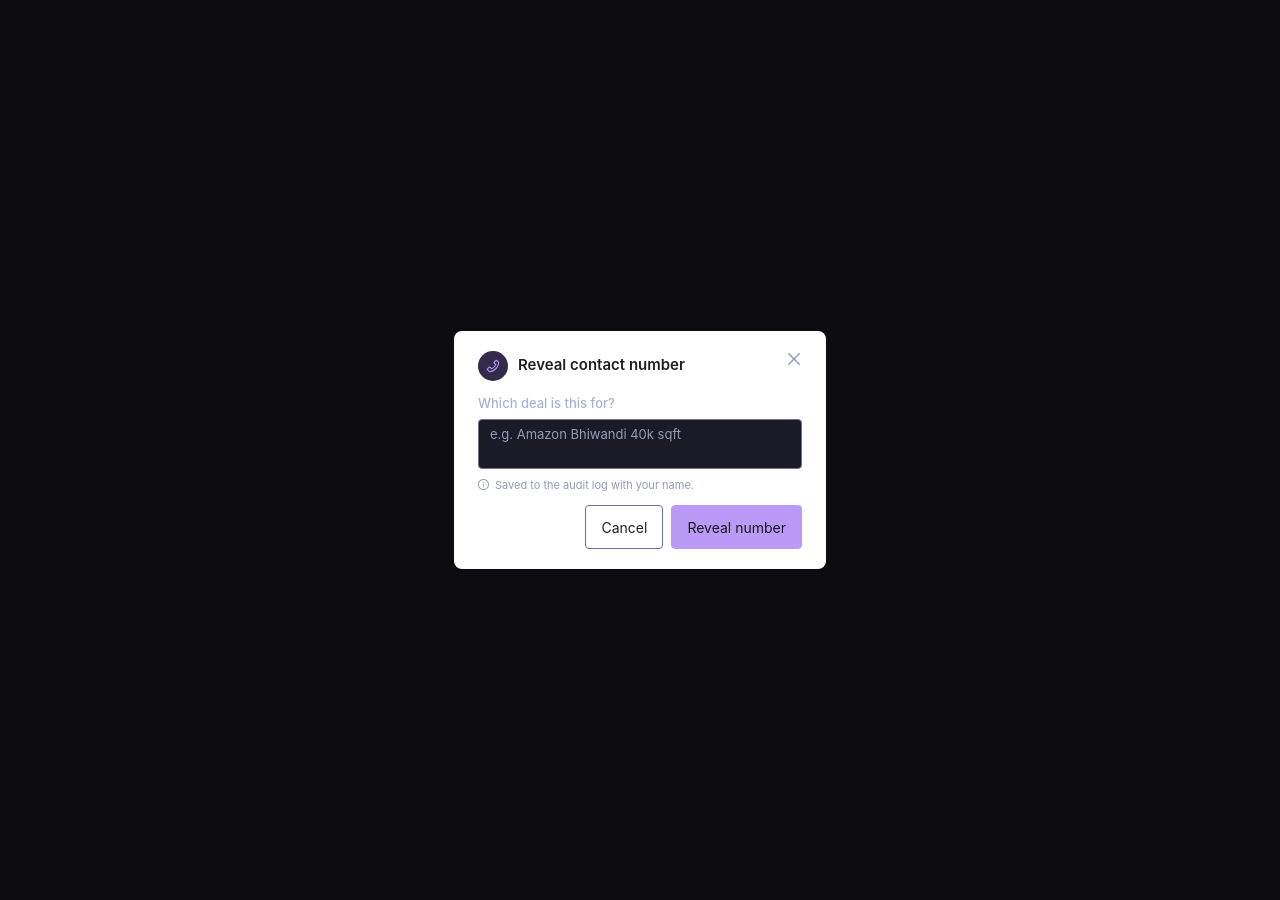
Scenario: RevealReasonModal › keeps the typed reason and shows the error when the reveal fails
The image size is (1280, 900).
Type "Godrej deal" into the text box named "Reason for revealing".
click(640, 444); type("Godrej deal")  # box [478,419,802,469]
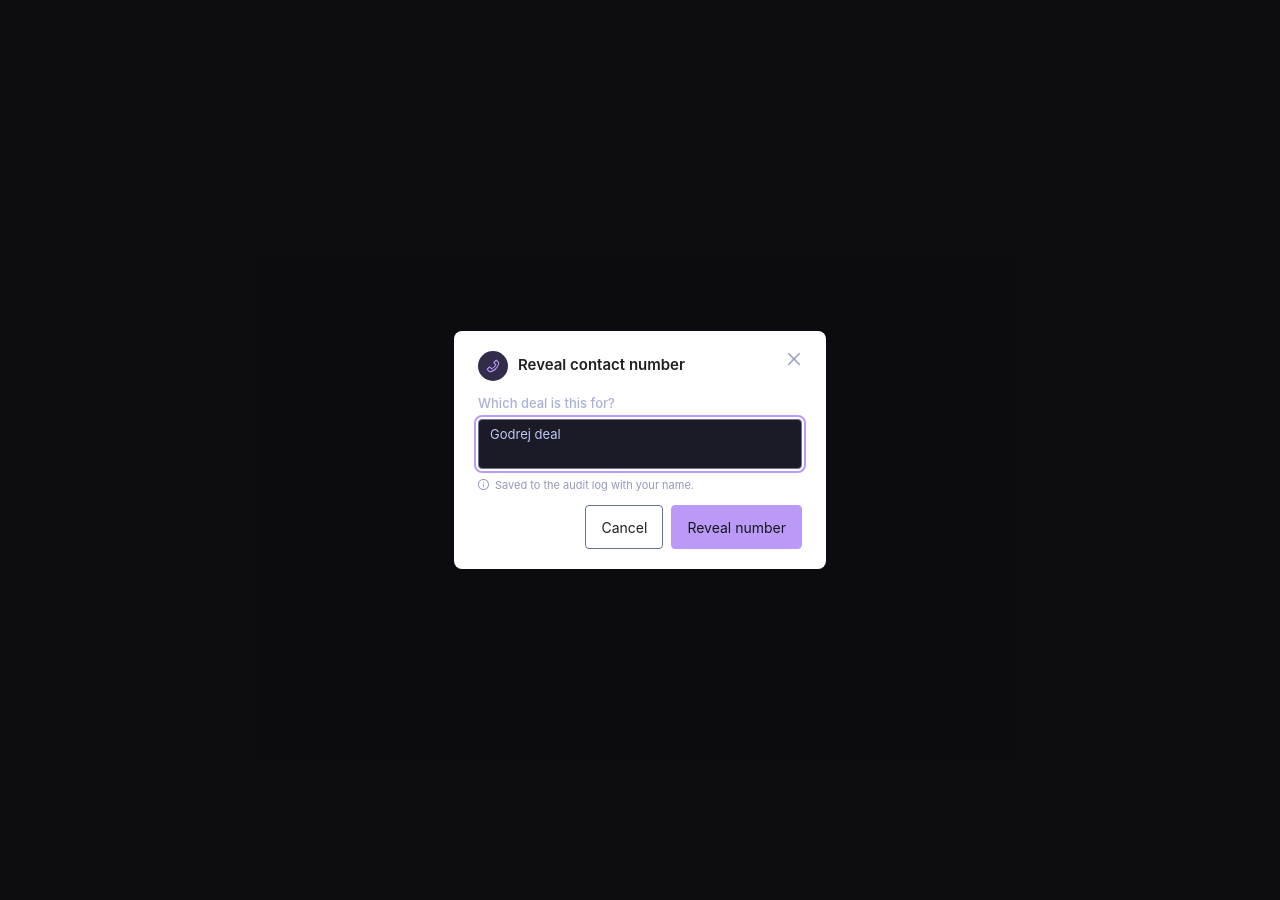
Click the button "Reveal number".
click(737, 528)  # box [671,506,802,550]
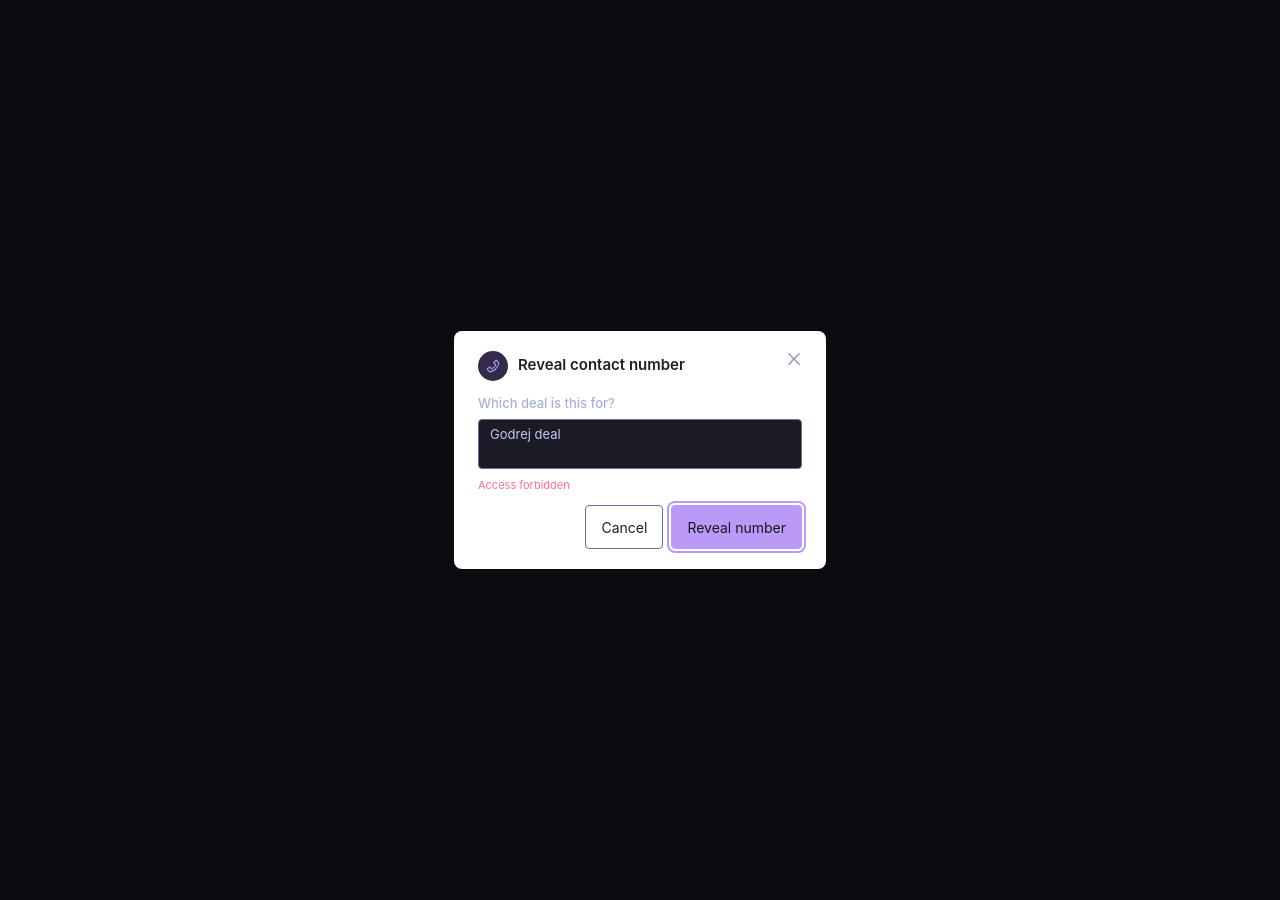
Expected: the text "Access forbidden" is shown, [478,477,570,494]
